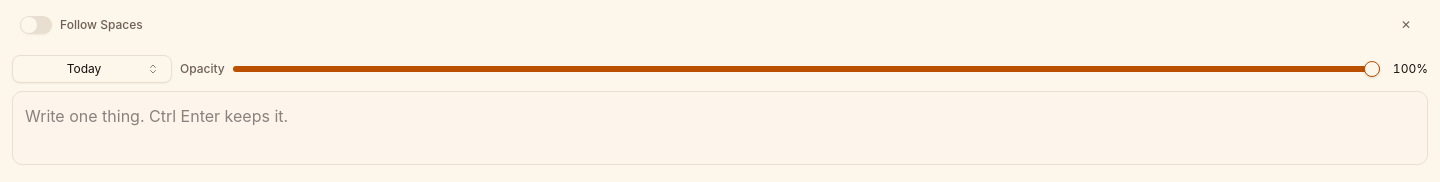
Test case: LiveEditor complete command › completes a plain prose line into a Completed row on Cmd+Enter
In the text box: (720, 128) [12, 91, 1428, 165], type "buy milk"
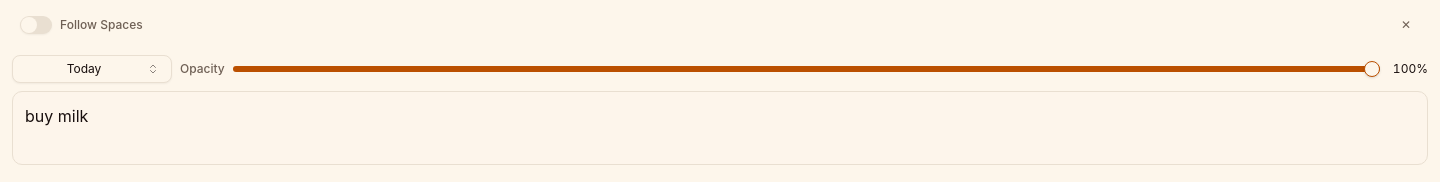
Press Enter in the text box, box [12, 91, 1428, 165]
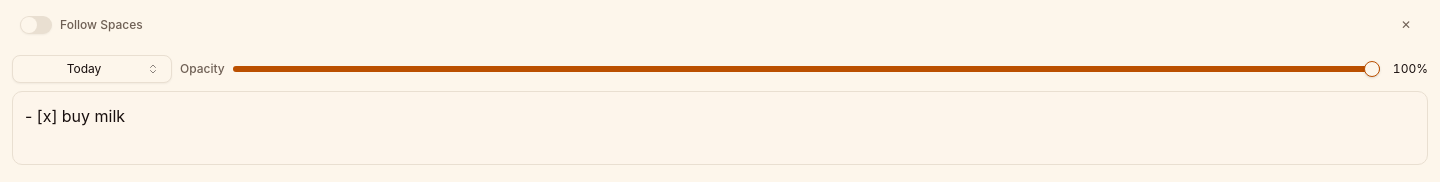
Check: the text box holds "- [x] buy milk", box [12, 91, 1428, 165]
